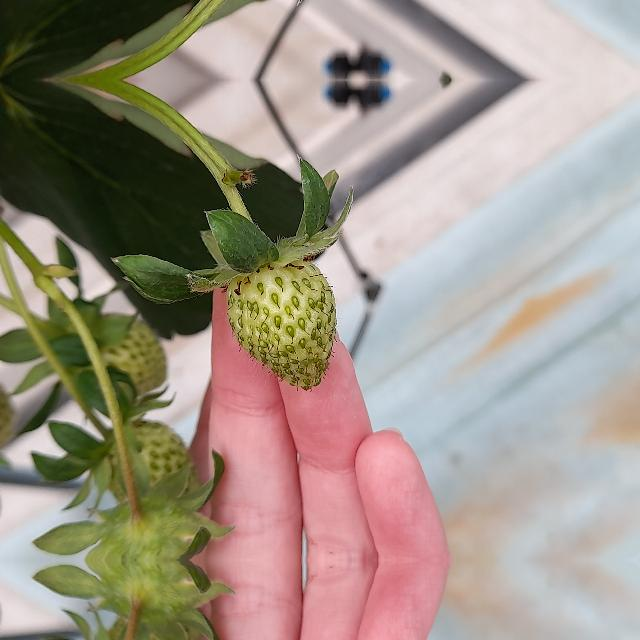Health_25: (226, 258, 336, 389)
